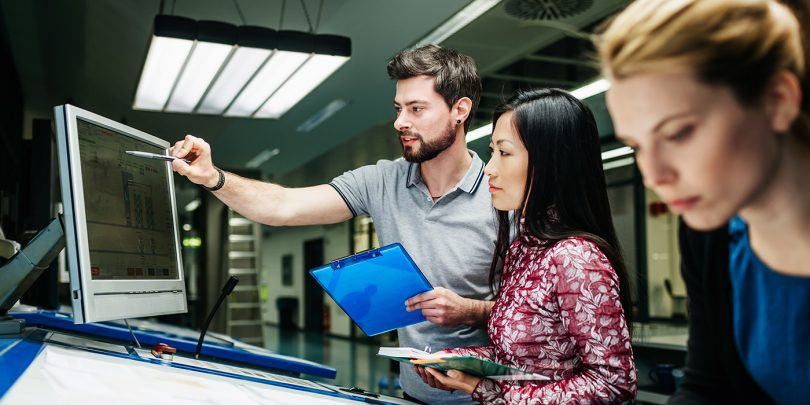person: (170, 44, 522, 405), (604, 1, 810, 405), (420, 86, 640, 404)
